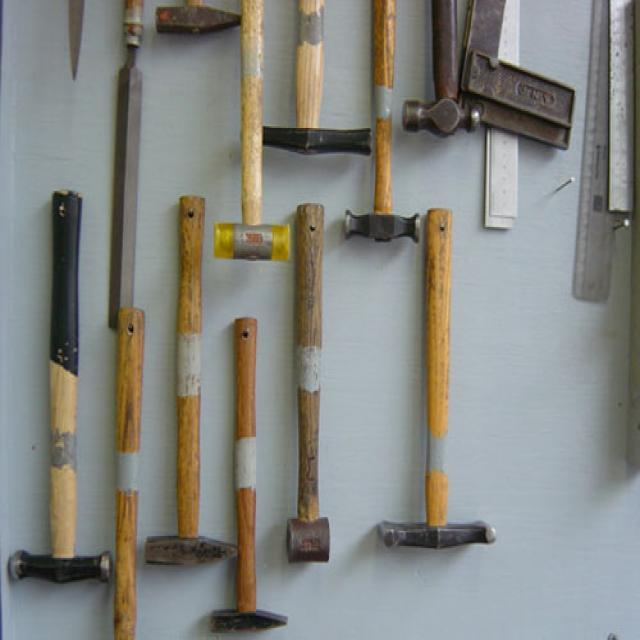hammer: (372, 195, 518, 561), (3, 184, 119, 593), (140, 185, 244, 580), (203, 301, 297, 639), (202, 0, 300, 268), (337, 0, 431, 252), (280, 195, 340, 571), (254, 0, 378, 164), (397, 0, 484, 143), (148, 0, 254, 49)
